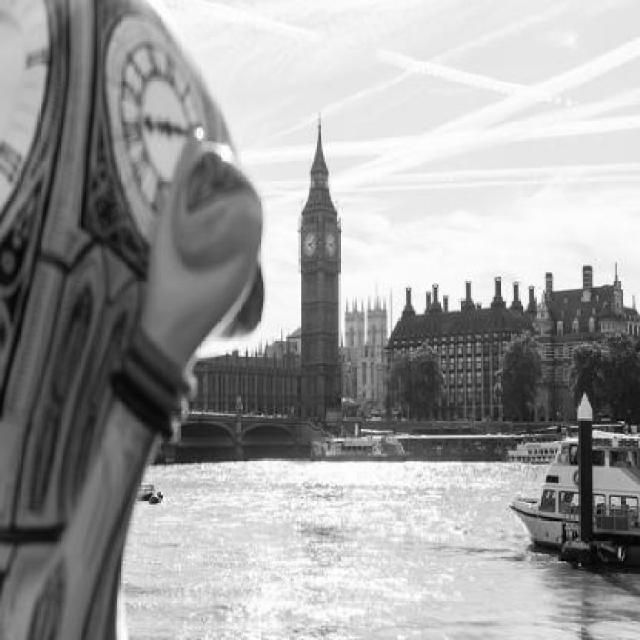ship: (508, 384, 640, 562), (307, 426, 410, 459)
